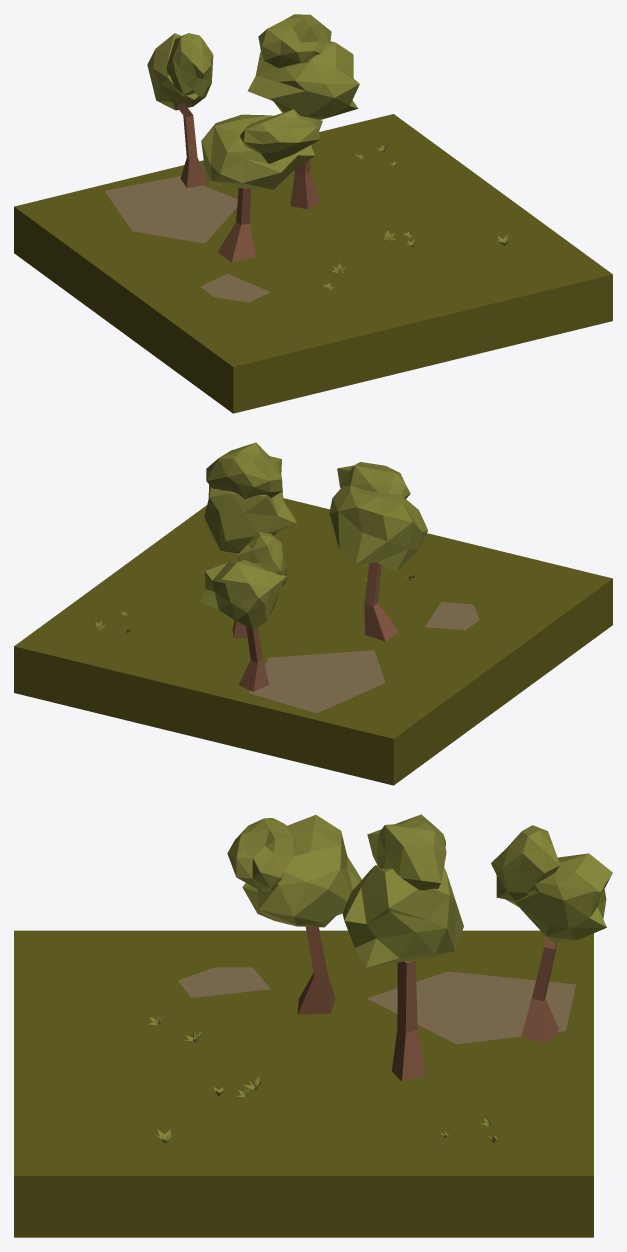
File: Chao 04.fbx
The picture shows the model from 3 angles, top to bottom: view 1: azimuth 30°, elevation 25°; view 2: azimuth 150°, elevation 25°; view 3: azimuth 270°, elevation 25°; orthographic projection. The views are drawn at different scales.
Parts seen in each view (by area): view 1: Chão 04; view 2: Chão 04; view 3: Chão 04.
Part boxes in pixels (x1=…): Chão 04: x1=14, y1=14, x2=612, y2=413; Chão 04: x1=14, y1=442, x2=612, y2=785; Chão 04: x1=14, y1=814, x2=612, y2=1237.
Bounding box in the file's own units: 200 × 117 × 207.
